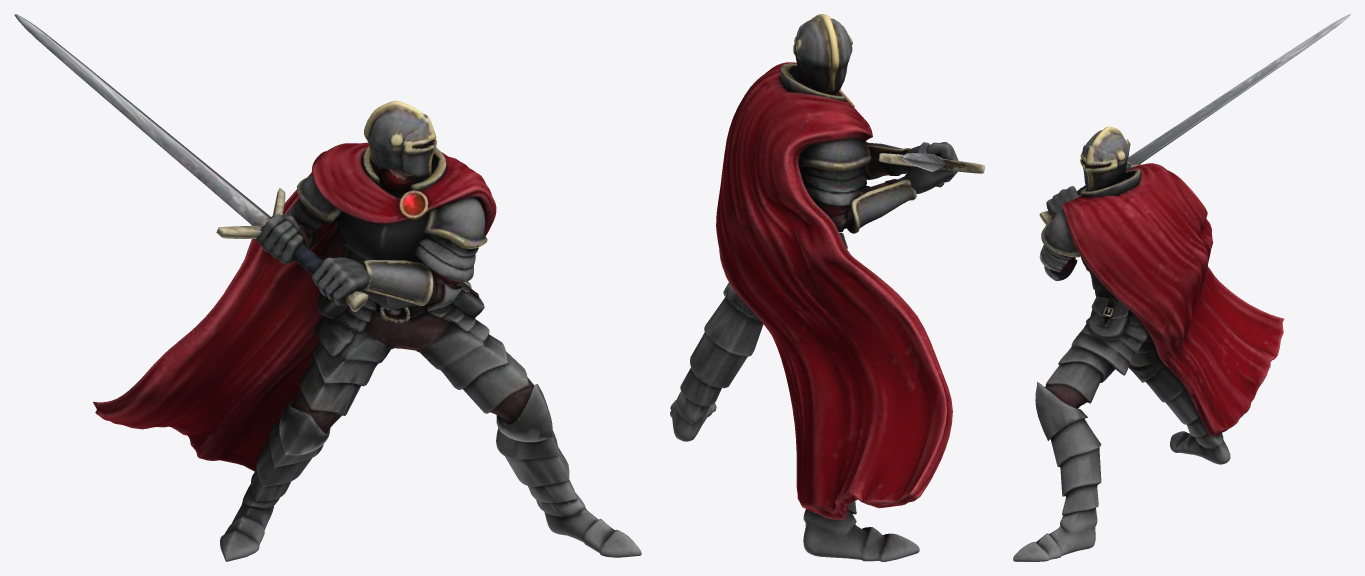
File: MZ4250 - Knight Male_Dark.glb
The picture shows the model from 3 angles, left to right: view 1: azimuth 30°, elevation 25°; view 2: azimuth 150°, elevation 25°; view 3: azimuth 270°, elevation 25°; orthographic projection. The views are drawn at different scales.
Visible parts, largest first — view 1: Pouch Generic 2.002; view 2: Pouch Generic 2.002; view 3: Pouch Generic 2.002.
Part boxes in pixels (x1,y1,x2,y2): Pouch Generic 2.002: (14,14,641,561); Pouch Generic 2.002: (670,14,984,561); Pouch Generic 2.002: (1013,14,1350,561).
Size of the model in its own units: 0.8359 by 0.9388 by 0.7368.
Materials: 1 (1 with a texture image).
